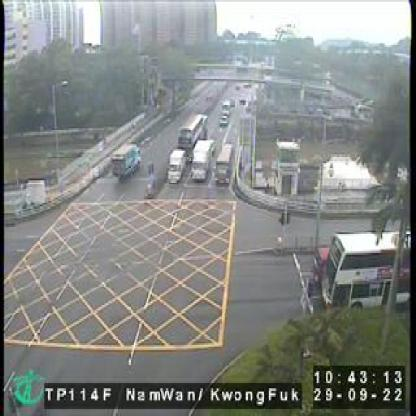Bus: (319, 230, 412, 308), (177, 114, 201, 156), (216, 142, 234, 184)
Car: (218, 111, 229, 125)
Truck: (190, 134, 216, 180), (110, 140, 136, 180), (165, 147, 185, 182)
